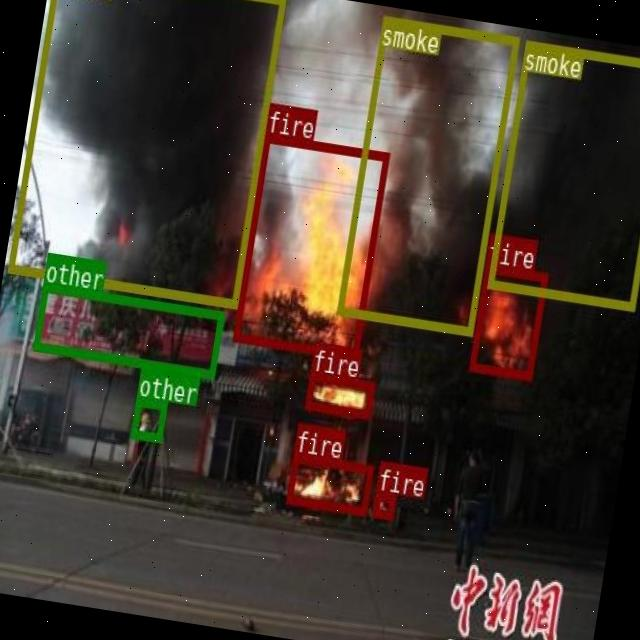fire: (233, 132, 389, 359), (468, 262, 548, 379), (285, 452, 373, 514), (304, 371, 374, 418), (372, 491, 396, 518)
smoke: (7, 0, 285, 307), (337, 14, 519, 334), (486, 39, 640, 309)
